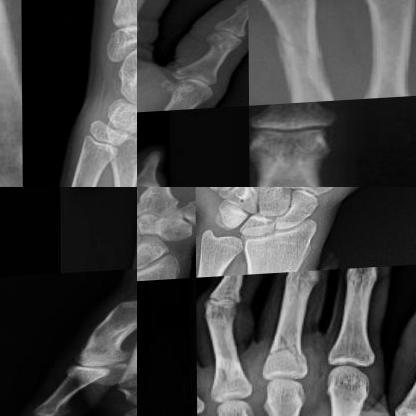fracture: (269, 24, 340, 100), (262, 328, 307, 369)
